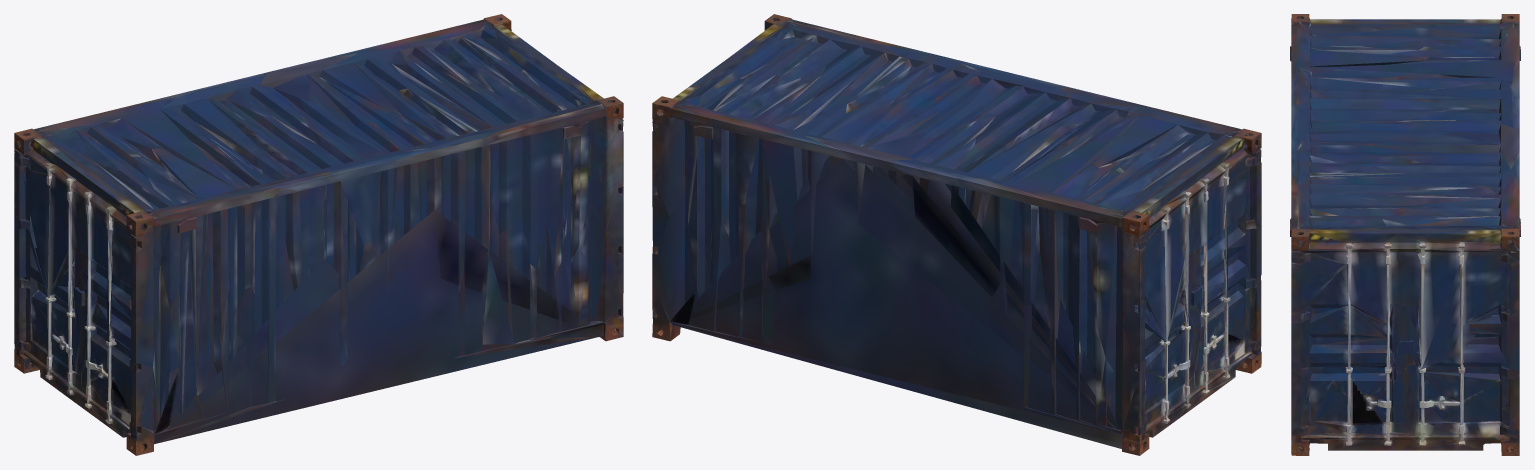
File: container_blue.glb
3 views of the same model, side by side, from view 1: azimuth 30°, elevation 25°; view 2: azimuth 150°, elevation 25°; view 3: azimuth 270°, elevation 25° (orthographic). The views are drawn at different scales.
Parts seen in each view (by area): view 1: Mesh_0; view 2: Mesh_0; view 3: Mesh_0.
Boxes of the visible parts, left/top/right/bottom form: Mesh_0: left=14, top=14, right=623, bottom=455; Mesh_0: left=652, top=14, right=1261, bottom=455; Mesh_0: left=1290, top=14, right=1520, bottom=455.
Bounding box in the file's own units: 1.9 × 0.8716 × 0.8312.
1 material, 1 textured.
